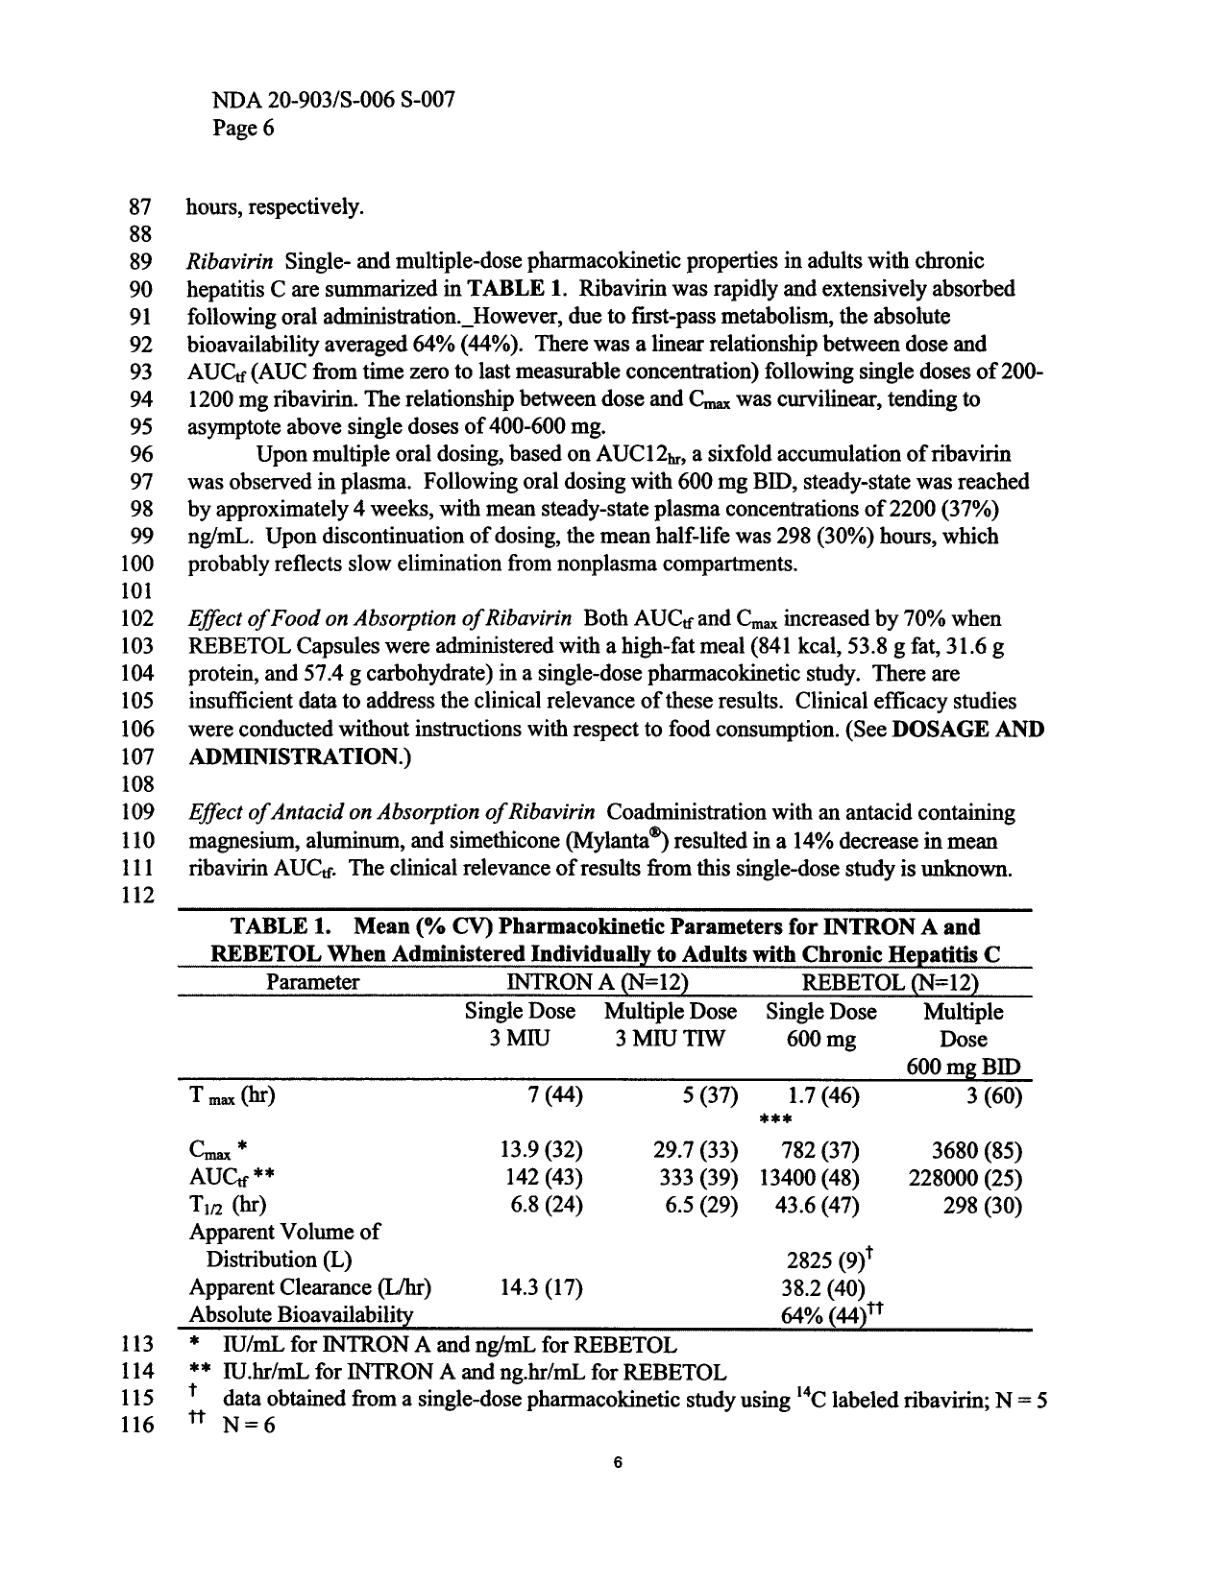partial_lined_merged_cells: (177, 963, 1036, 1332)
